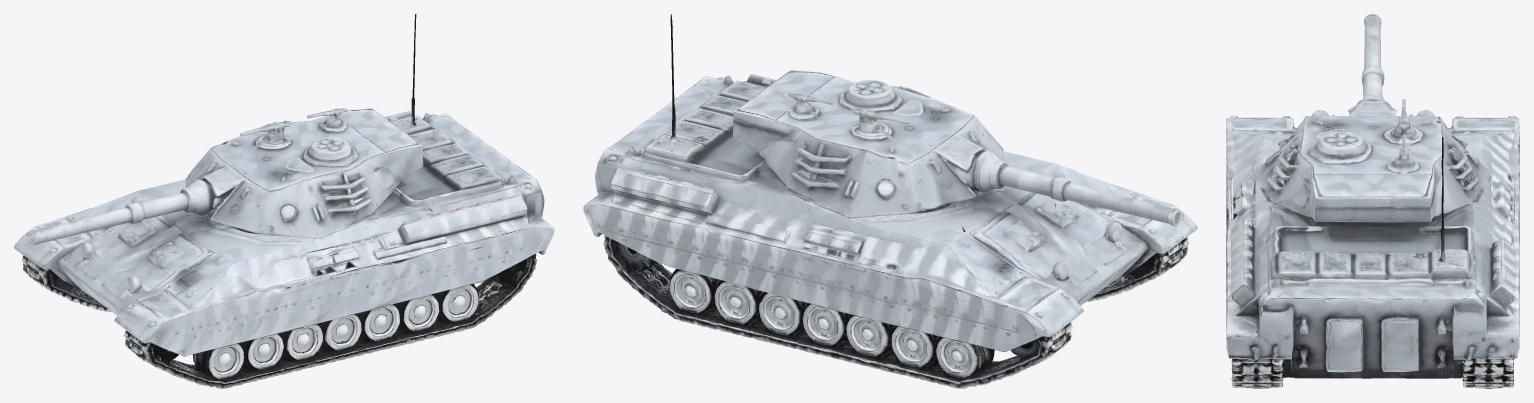
The model's file is tank-winter.glb.
3 views of the same model, side by side, from view 1: azimuth 30°, elevation 25°; view 2: azimuth 150°, elevation 25°; view 3: azimuth 270°, elevation 25° (orthographic). The views are drawn at different scales.
Size of the model in its own units: 2 by 0.9837 by 0.971.
1 material, 1 textured.
